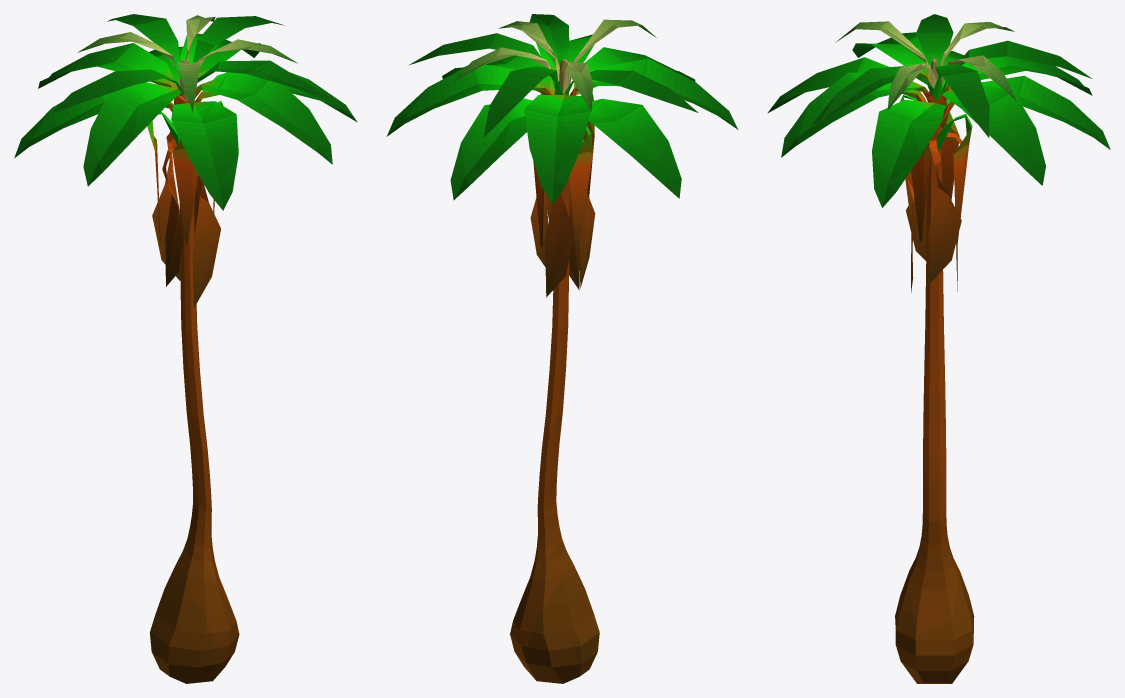
Rendered from StrangePalm.fbx.
3 views of the same model, side by side, from view 1: azimuth 30°, elevation 25°; view 2: azimuth 150°, elevation 25°; view 3: azimuth 270°, elevation 25° (orthographic).
Parts seen in each view (by area): view 1: PalmLeaveDeafalt; view 2: PalmLeaveDeafalt; view 3: PalmLeaveDeafalt.
Boxes of the visible parts, left/top/right/bottom form: PalmLeaveDeafalt: left=14, top=14, right=357, bottom=683; PalmLeaveDeafalt: left=386, top=14, right=738, bottom=683; PalmLeaveDeafalt: left=767, top=14, right=1110, bottom=683.
Size of the model in its own units: 807 by 1709 by 834.
Materials: 1 (1 with a texture image).
